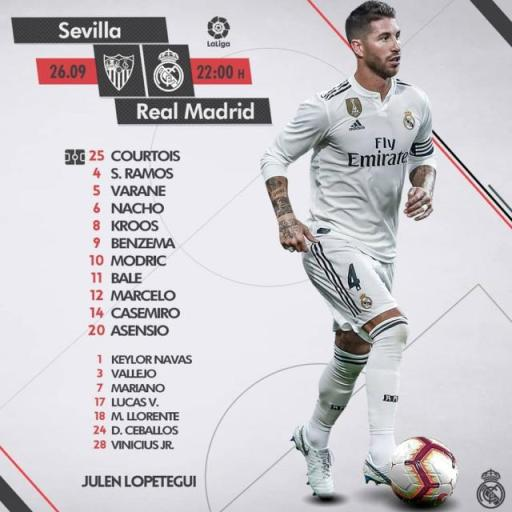Adidas: (348, 118, 366, 132)
Emirates: (344, 136, 410, 170)
